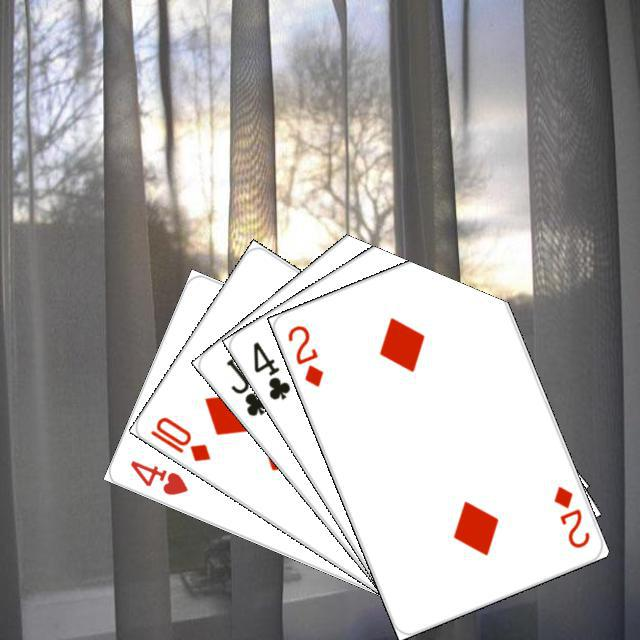10d: (145, 411, 212, 464)
2d: (282, 320, 326, 389), (548, 481, 592, 550)
4c: (247, 336, 293, 402)
4h: (125, 455, 190, 497)
Jc: (221, 353, 270, 418)
